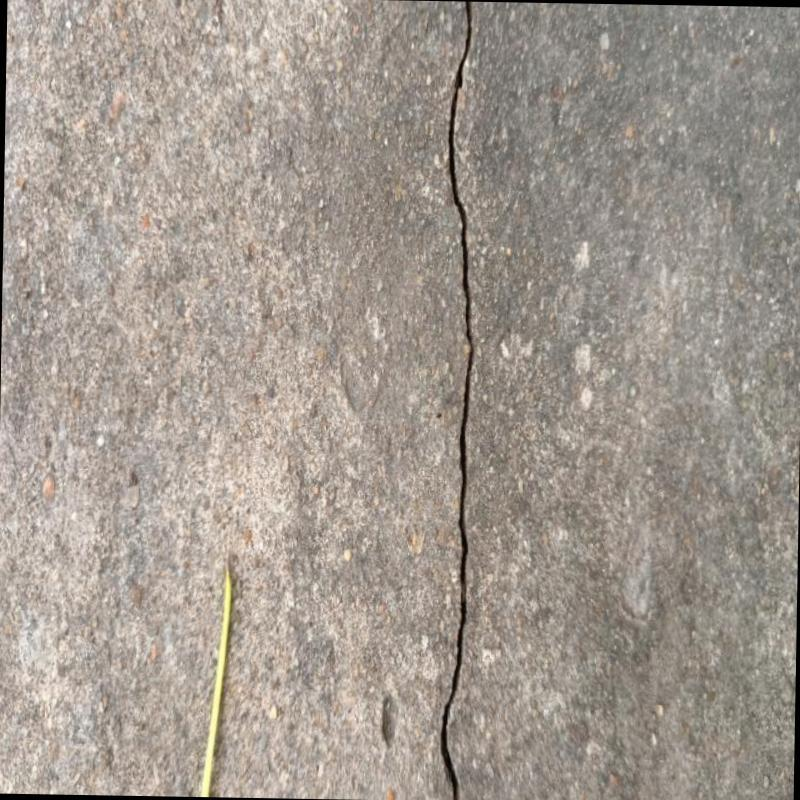pothole: (441, 1, 473, 800)
